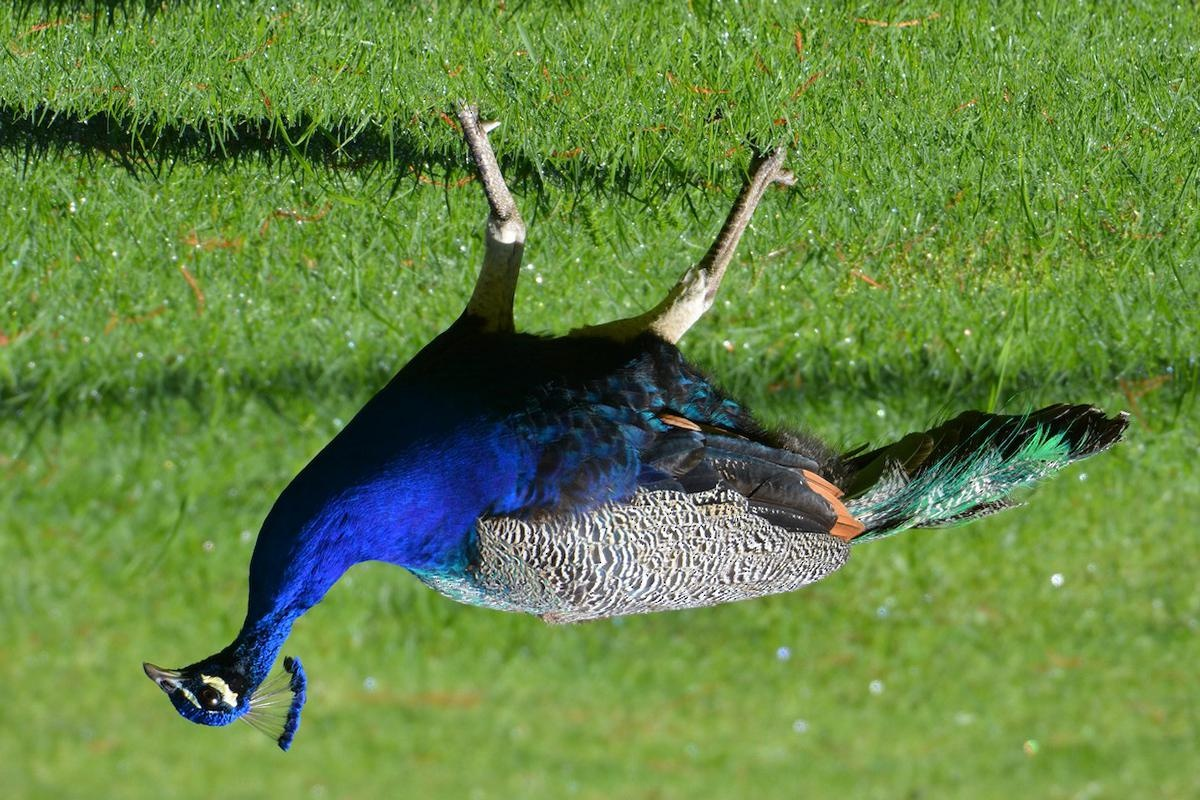peacock: (116, 192, 1138, 767)
